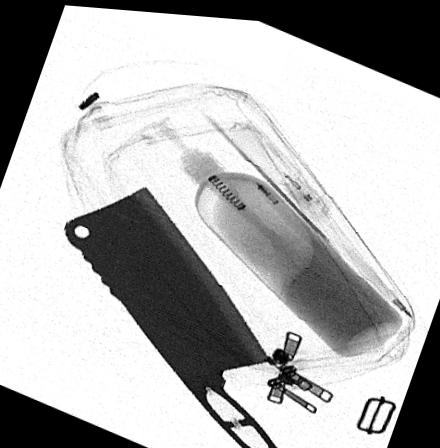Knife: (62, 182, 286, 448)
